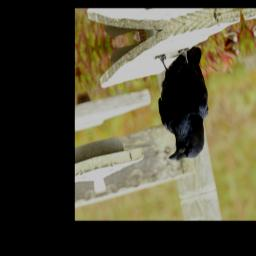Crow: (148, 43, 221, 166)
